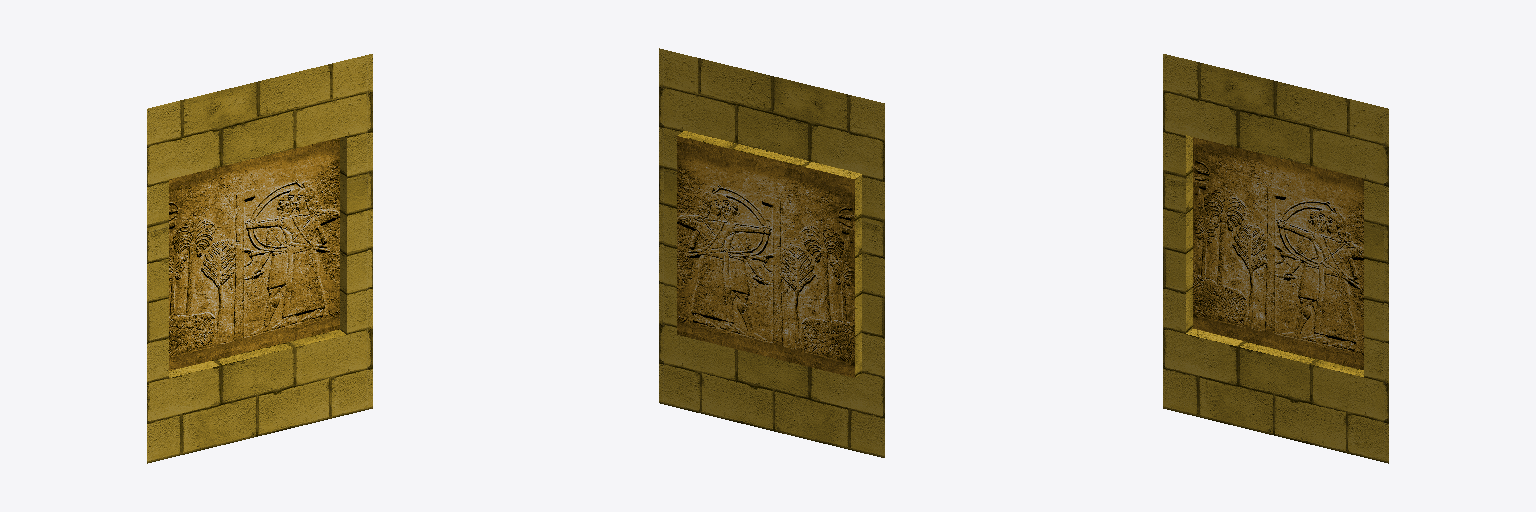
3 views of the same model, side by side, from view 1: azimuth 30°, elevation 25°; view 2: azimuth 150°, elevation 25°; view 3: azimuth 330°, elevation 25° (orthographic).
Visible parts, largest first — view 1: brick_wall_x1_archers_relief; view 2: brick_wall_x1_archers_relief; view 3: brick_wall_x1_archers_relief.
Part boxes in pixels (bbox=[...]): brick_wall_x1_archers_relief: bbox=[147, 54, 372, 463]; brick_wall_x1_archers_relief: bbox=[659, 48, 884, 457]; brick_wall_x1_archers_relief: bbox=[1163, 54, 1388, 463].
Size of the model in its own units: 200 by 300 by 11.14.
2 materials, 2 textured.